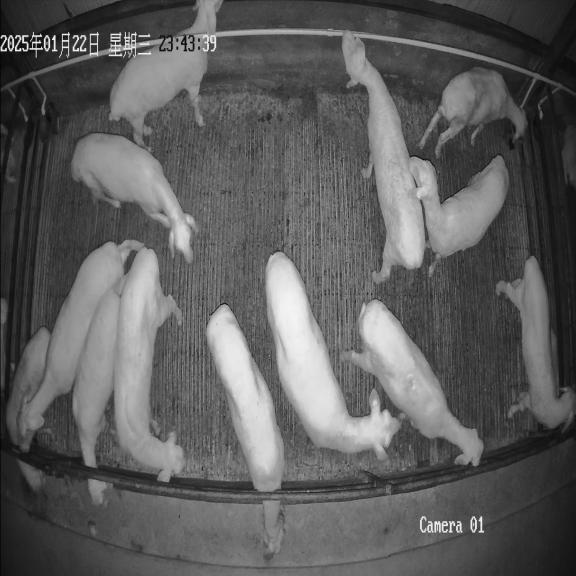drinking: (419, 67, 526, 158)
eating: (206, 304, 284, 558), (73, 278, 125, 505), (6, 327, 51, 492)
stand: (265, 252, 400, 460), (18, 240, 144, 449), (341, 299, 483, 466), (342, 30, 425, 284), (114, 248, 185, 482), (109, 0, 223, 145), (71, 133, 195, 263), (495, 256, 576, 429), (409, 155, 509, 275)
